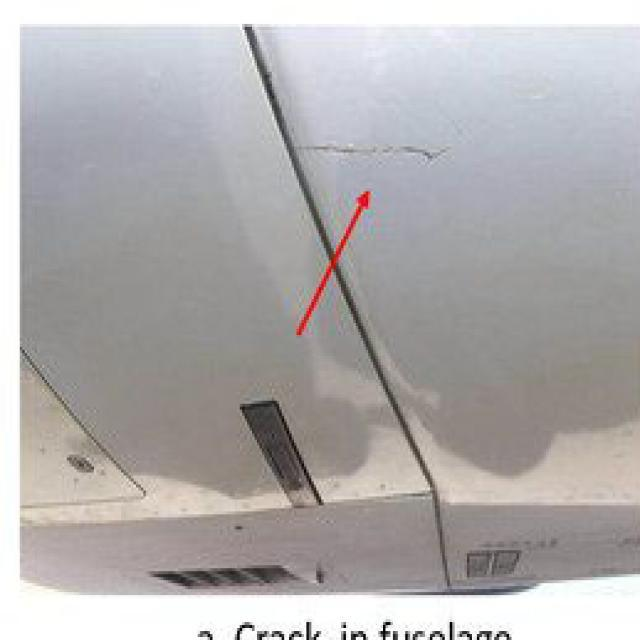crack: (305, 136, 458, 181)
